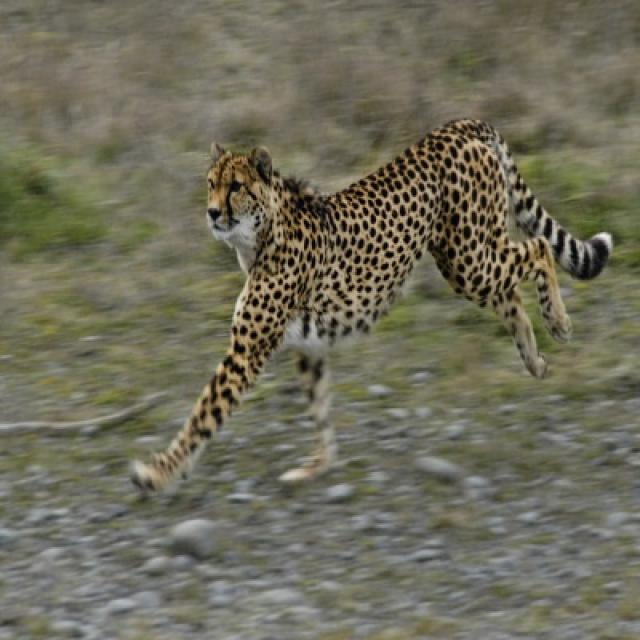Cheetah: (130, 122, 611, 494)
